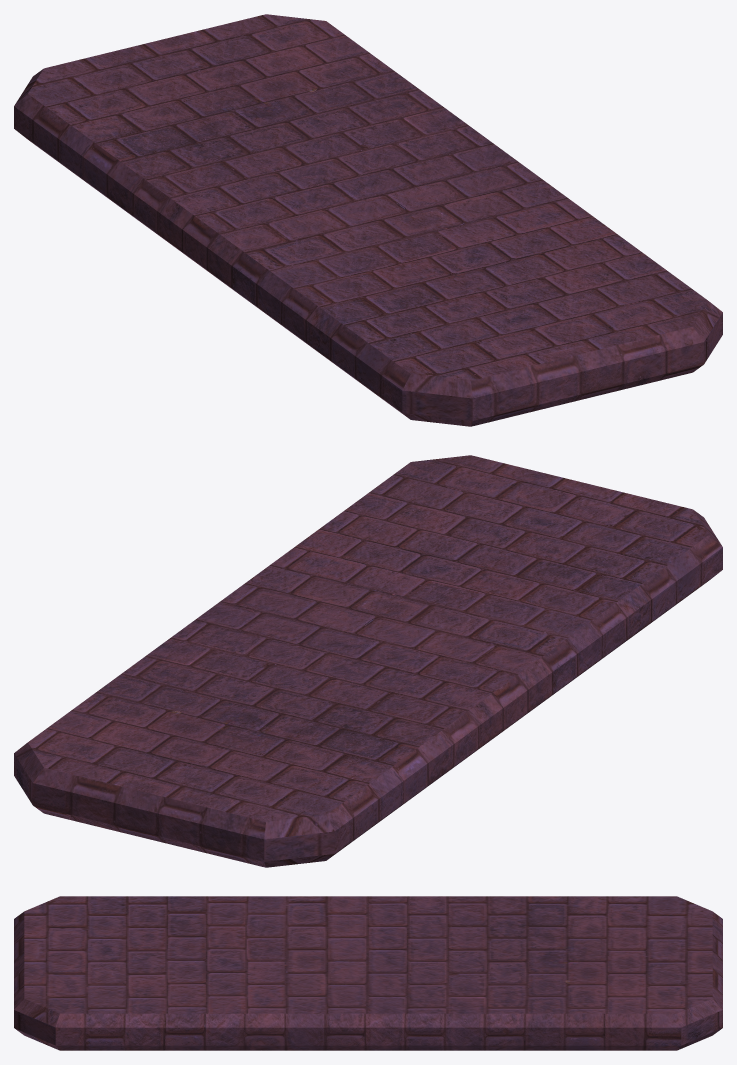
The model's file is Plataforma3.fbx.
3 renders of one model, top to bottom at view 1: azimuth 30°, elevation 25°; view 2: azimuth 150°, elevation 25°; view 3: azimuth 270°, elevation 25°, orthographic. The views are drawn at different scales.
Parts seen in each view (by area): view 1: Plane; view 2: Plane; view 3: Plane.
Part boxes in pixels (x1=…): Plane: x1=14, y1=14, x2=722, y2=426; Plane: x1=14, y1=455, x2=722, y2=867; Plane: x1=14, y1=896, x2=722, y2=1050.
Bounding box in the file's own units: 219 × 29.93 × 520.
